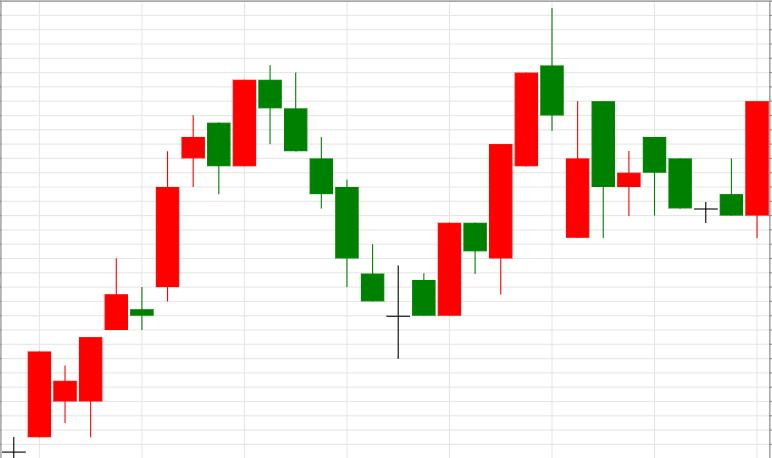bullish_engulfing_rise: (258, 67, 460, 360), (643, 101, 770, 237)
shooting_star_fall: (438, 9, 564, 315)
